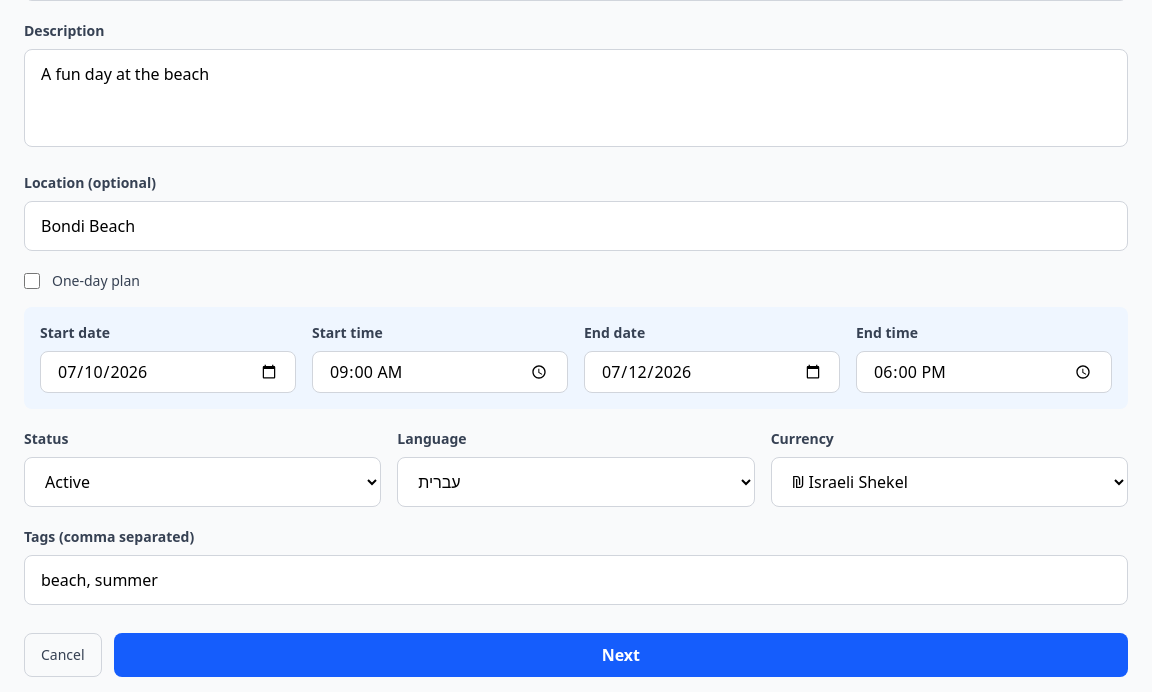
Test case: EditPlanForm › Step 2 — Owner Preferences › pre-fills owner preferences from the owner participant
This screenshot has width=1152, height=692.
(page scrolled)
Click the button "Next". click: (621, 655)
box: [114,633,1128,677]
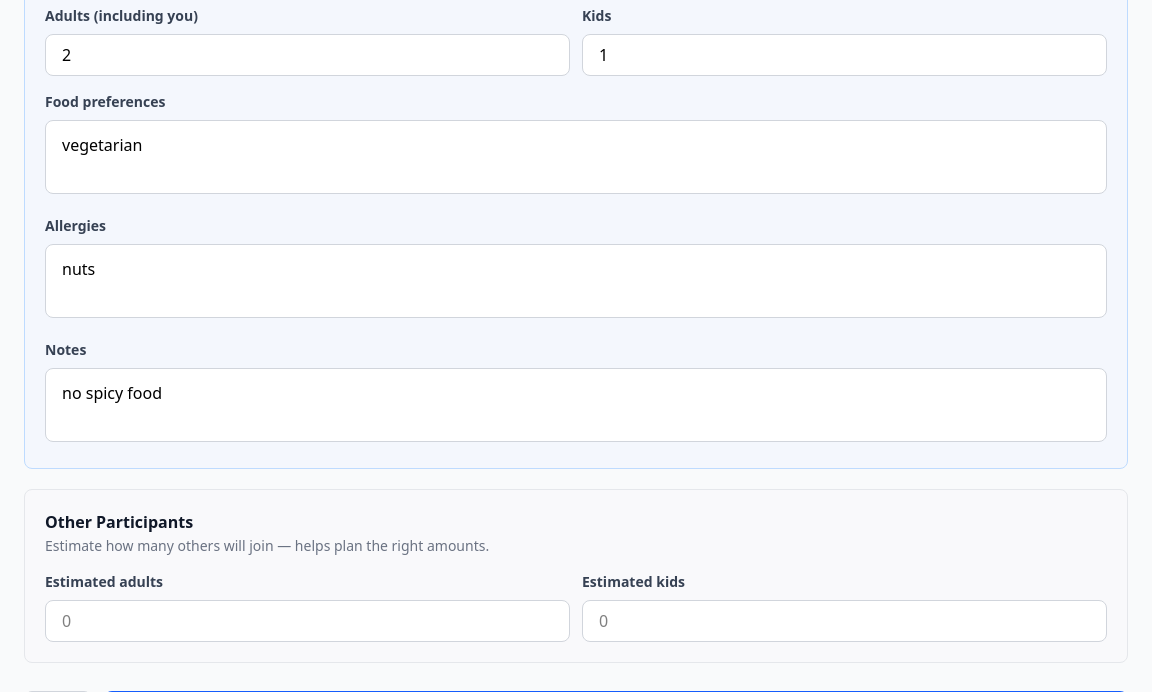
Expected: the heading "Other Participants" is shown, [45,511,193,533]
